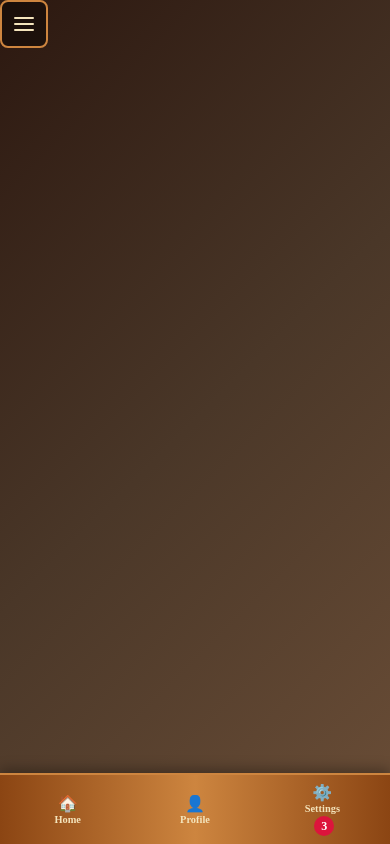
Responsive Design Components › ResponsiveNavigation › opens mobile menu when hamburger is clicked
Click the button named "Toggle navigation menu".
click(24, 24)  # box 0,0 -> 48,48
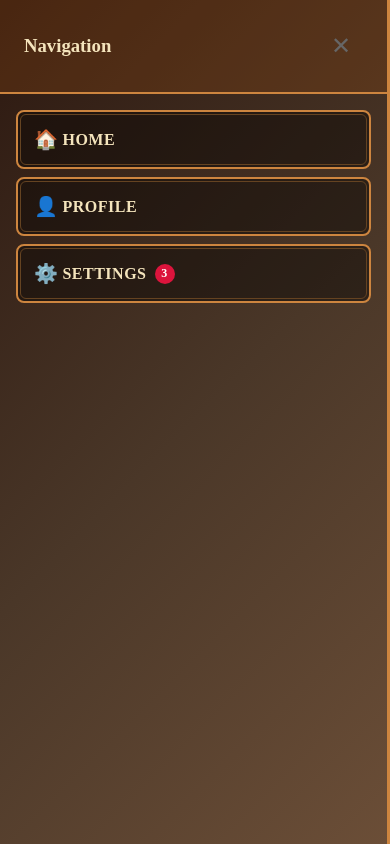
Now the heading "Navigation" is shown, box 24,35 -> 111,57
